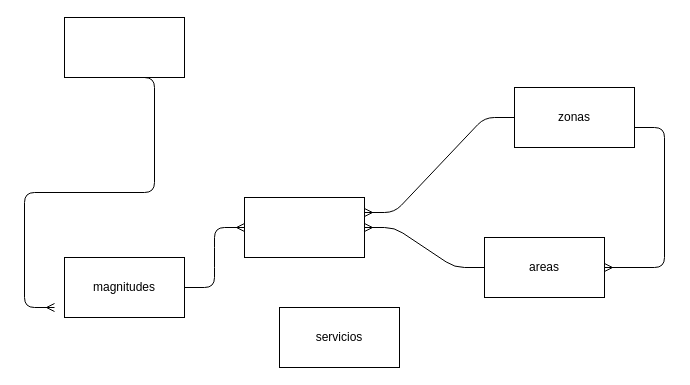
Some shapes in this 690 by 385 pixel diagram are drawn without their labels. The centre of each missing label's shape, as x and y in pixels:
mediciones: pixel 304 227
sensores: pixel 124 47
